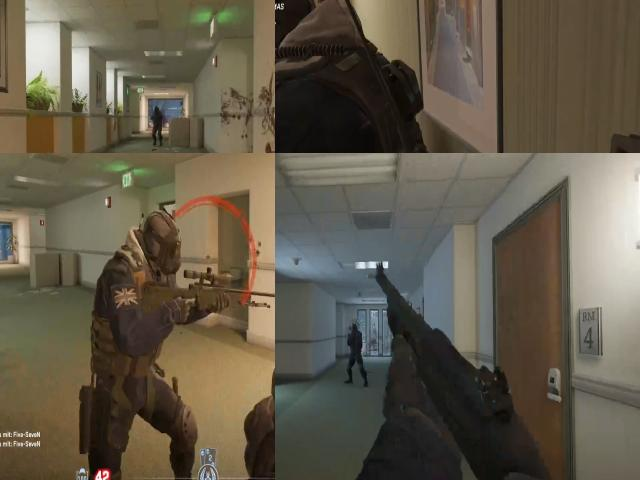CT: (86, 211, 182, 446), (275, 0, 412, 153), (342, 324, 367, 389), (149, 100, 165, 126)
CT-Head: (134, 206, 189, 272), (350, 321, 359, 336)
